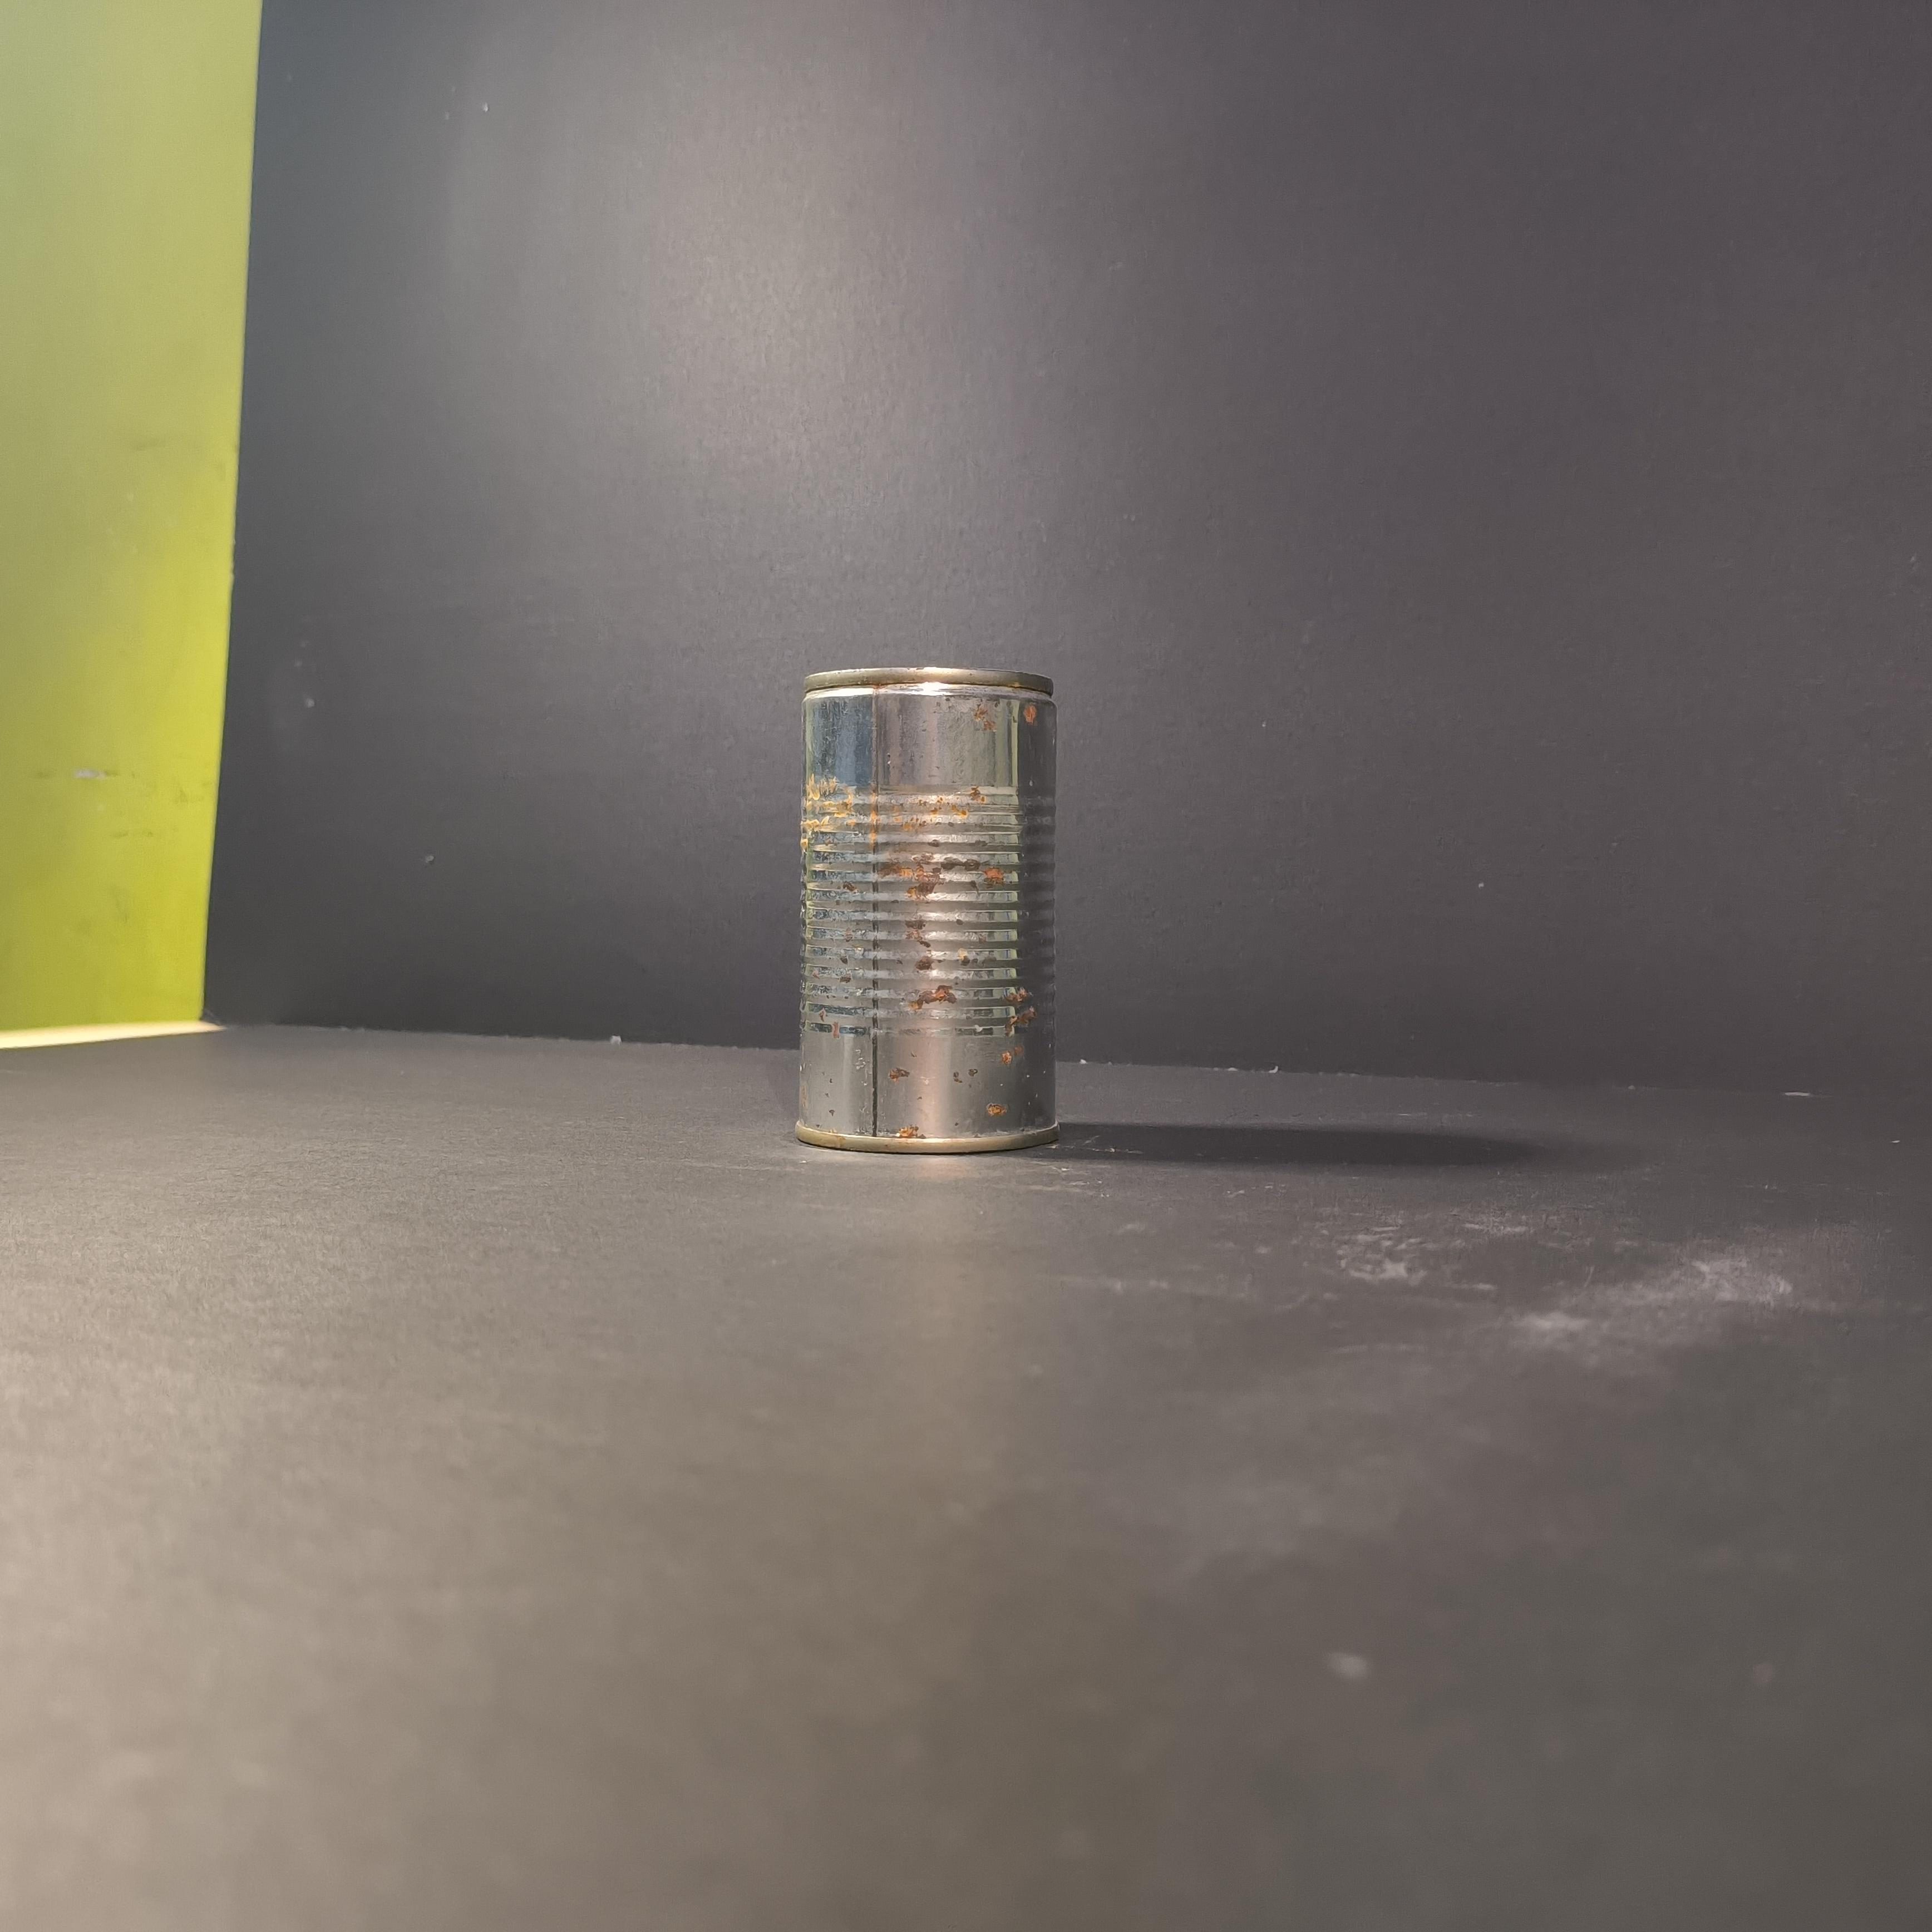Rusted: (791, 651, 1074, 1168)
